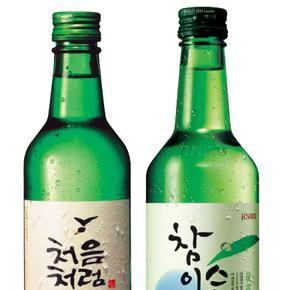soju: (144, 5, 261, 290), (21, 8, 134, 289)
